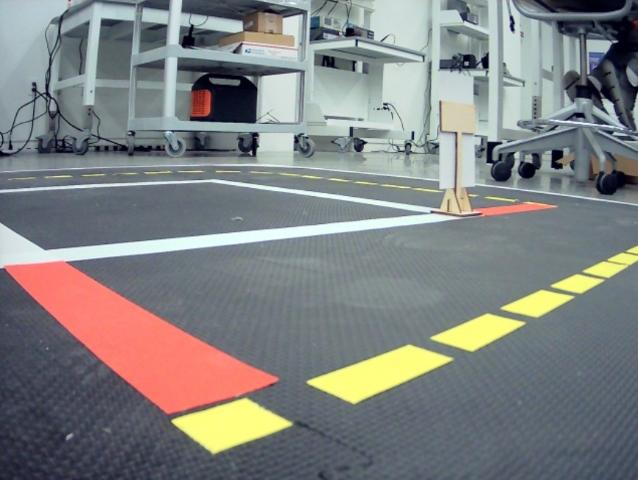redline: (3, 259, 278, 416), (477, 203, 556, 216)
whiteline: (0, 212, 458, 268), (209, 179, 441, 213), (0, 178, 212, 195), (0, 213, 51, 262)
yellowline: (168, 244, 638, 458), (248, 170, 555, 207), (0, 170, 243, 181)
